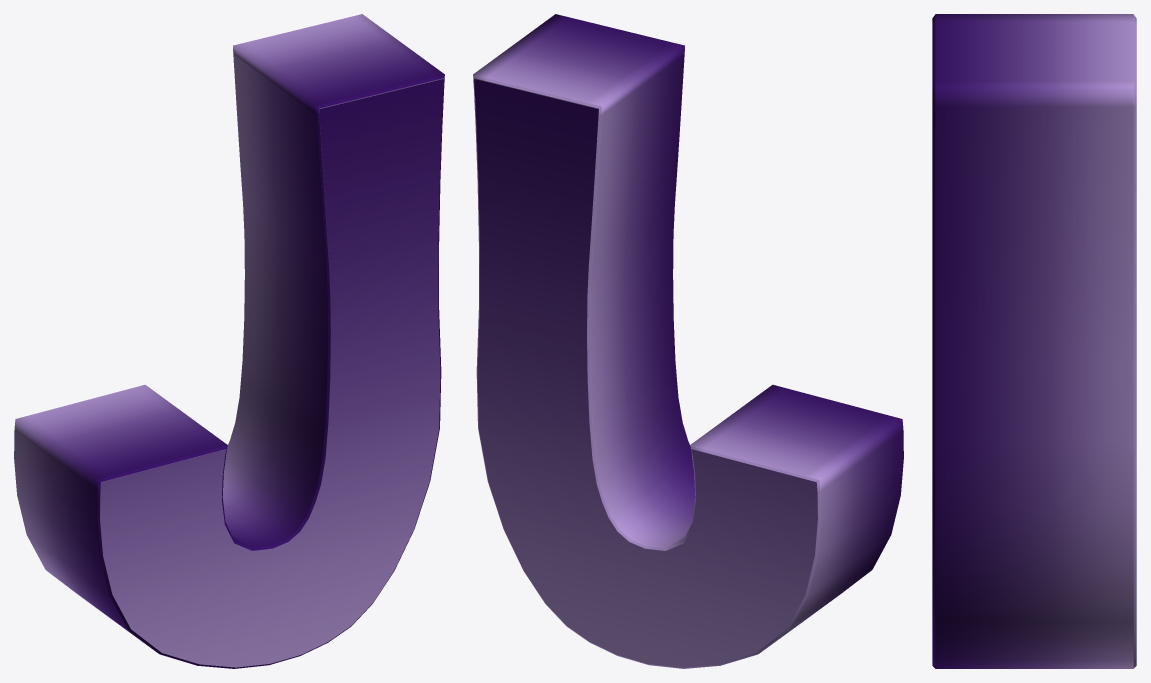
File: alphaJR.obj
The picture shows the model from 3 angles, left to right: view 1: azimuth 30°, elevation 25°; view 2: azimuth 150°, elevation 25°; view 3: azimuth 270°, elevation 25°; orthographic projection. The views are drawn at different scales.
Visible parts, largest first — view 1: polySurface12; view 2: polySurface12; view 3: polySurface12.
Part boxes in pixels (x1,y1,x2,y2): polySurface12: (14, 14, 444, 668); polySurface12: (473, 14, 903, 668); polySurface12: (932, 14, 1136, 668).
Size of the model in its own units: 1.55 by 2.33 by 0.6578.
